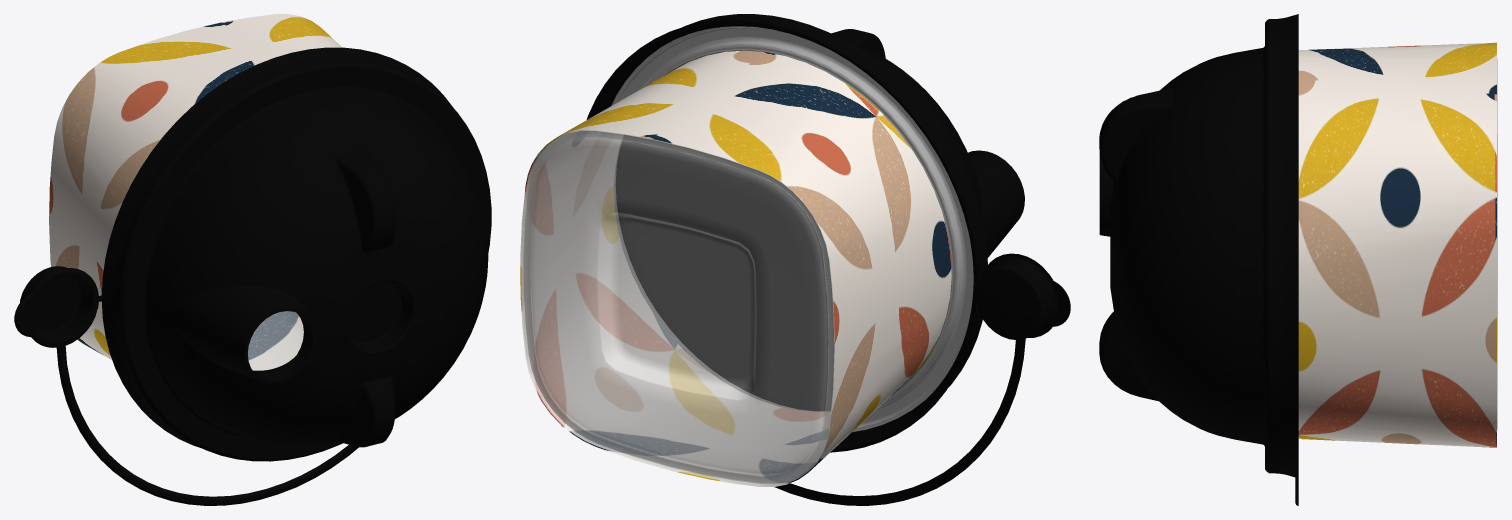
Rendered from 01.120 dessert cup.glb.
3 views of the same model, side by side, from view 1: azimuth 30°, elevation 25°; view 2: azimuth 150°, elevation 25°; view 3: azimuth 270°, elevation 25° (orthographic). The views are drawn at different scales.
Parts seen in each view (by area): view 1: meshes[0].002, meshes[0].001, meshes[0].005; view 2: meshes[0].005, meshes[0].001, meshes[0].002; view 3: meshes[0].001, meshes[0].002.
Boxes of the visible parts, box(x1,y1,x2,y2) form: meshes[0].002: box(14, 47, 491, 505); meshes[0].001: box(49, 14, 342, 370); meshes[0].005: box(248, 311, 303, 370); meshes[0].005: box(521, 26, 973, 485); meshes[0].001: box(520, 50, 951, 486); meshes[0].002: box(586, 14, 1070, 505); meshes[0].001: box(1298, 42, 1496, 447); meshes[0].002: box(1099, 14, 1298, 505).
Bounding box in the file's own units: 0.0969 × 0.087 × 0.0676.
Materials: 3 (1 with a texture image).
